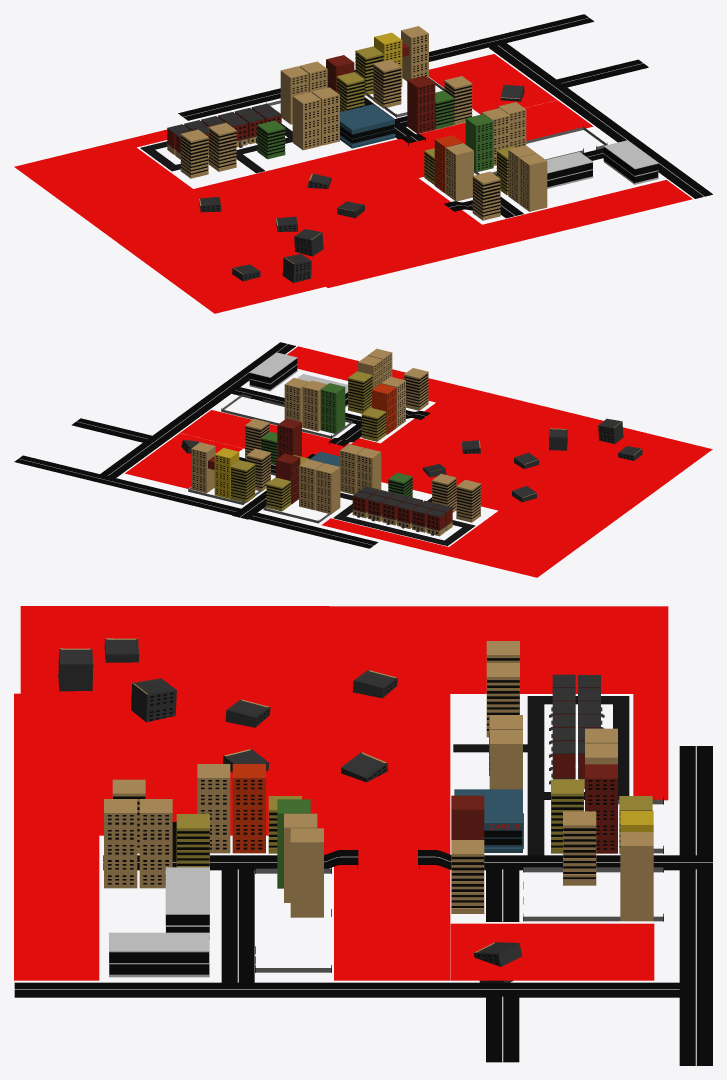
Rendered from Border.fbx.
The picture shows the model from 3 angles, top to bottom: view 1: azimuth 30°, elevation 25°; view 2: azimuth 150°, elevation 25°; view 3: azimuth 270°, elevation 25°; orthographic projection. The views are drawn at different scales.
Visible parts, largest first — view 1: Plane.024, Plane.009, Plane.023, Plane.022, Plane.026, Plane.013, Plane.010, Cube.002, Plane.002, Building_B.022, Building_B.007, Building_B.005 (+32 smaller); view 2: Plane.024, Plane.022, Plane.009, Plane.023, Plane.026, Plane.013, Cube.019, Plane.010, Plane.005, Plane.002, Plane.019, Building_B.006 (+36 smaller); view 3: Plane.024, Plane.009, Plane.026, Plane.023, Plane.022, Plane.010, Plane.013, Plane.002, Plane.005, Plane.019, Plane.007, Plane.001 (+40 smaller).
Part boxes in pixels (x1,y1,x2,y2): Plane.024: (119, 172, 506, 313); Plane.009: (193, 100, 593, 215); Plane.023: (14, 152, 188, 249); Plane.022: (76, 141, 229, 237); Plane.026: (326, 180, 692, 287); Plane.013: (489, 43, 712, 198); Plane.010: (429, 54, 556, 114); Cube.002: (340, 104, 395, 148); Plane.002: (603, 140, 658, 184); Building_B.022: (519, 153, 547, 211); Building_B.007: (407, 75, 435, 133); Building_B.005: (292, 92, 320, 150); Plane.024: (381, 387, 712, 507); Plane.022: (446, 481, 592, 567); Plane.009: (180, 410, 529, 510); Plane.023: (484, 495, 635, 577); Plane.026: (287, 346, 603, 440); Plane.013: (100, 342, 295, 477); Cube.019: (352, 491, 445, 536); Plane.010: (125, 433, 242, 488); Plane.005: (351, 438, 537, 487); Plane.002: (249, 352, 297, 391); Plane.019: (321, 518, 455, 555); Building_B.006: (315, 463, 340, 514); Plane.024: (20, 606, 329, 835); Plane.009: (334, 693, 450, 980); Plane.026: (14, 693, 99, 980); Plane.023: (303, 606, 668, 655); Plane.022: (303, 645, 668, 693); Plane.010: (450, 923, 654, 980); Plane.013: (14, 982, 679, 997); Plane.002: (109, 932, 209, 977); Plane.005: (304, 693, 333, 854); Plane.019: (633, 688, 668, 800); Plane.007: (221, 869, 254, 982); Plane.001: (679, 869, 712, 978).
Size of the model in its own units: 98307 by 63158 by 10006.
